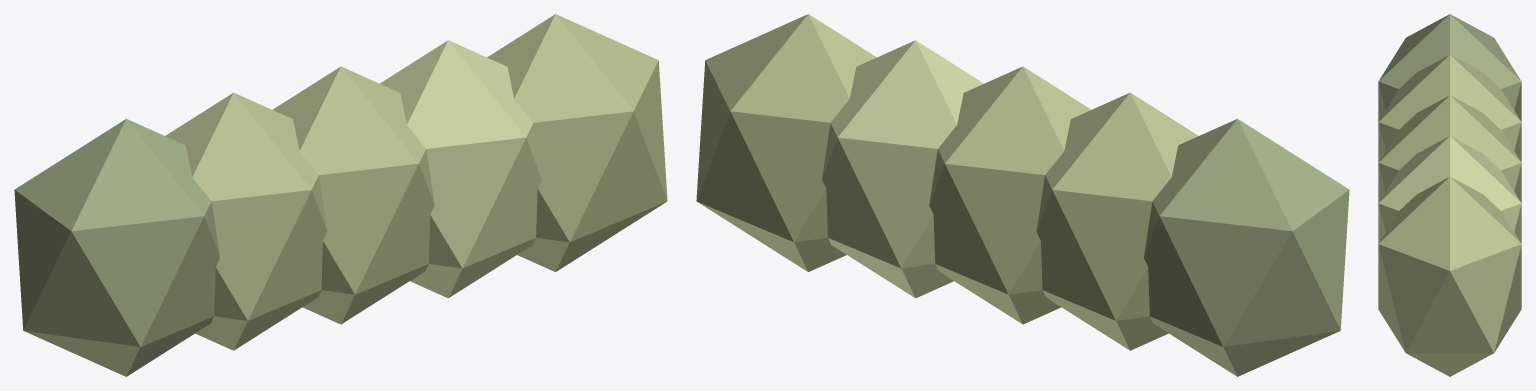
Rendered from hedge_section.fbx.
3 renders of one model, left to right at view 1: azimuth 30°, elevation 25°; view 2: azimuth 150°, elevation 25°; view 3: azimuth 270°, elevation 25°, orthographic. The views are drawn at different scales.
Parts seen in each view (by area): view 1: hedge_section_geometry; view 2: hedge_section_geometry; view 3: hedge_section_geometry.
Part boxes in pixels (x1=…): hedge_section_geometry: x1=14, y1=14, x2=667, y2=376; hedge_section_geometry: x1=696, y1=14, x2=1349, y2=376; hedge_section_geometry: x1=1378, y1=14, x2=1521, y2=376.
Bounding box in the file's own units: 2.37 × 0.92 × 0.5954.
